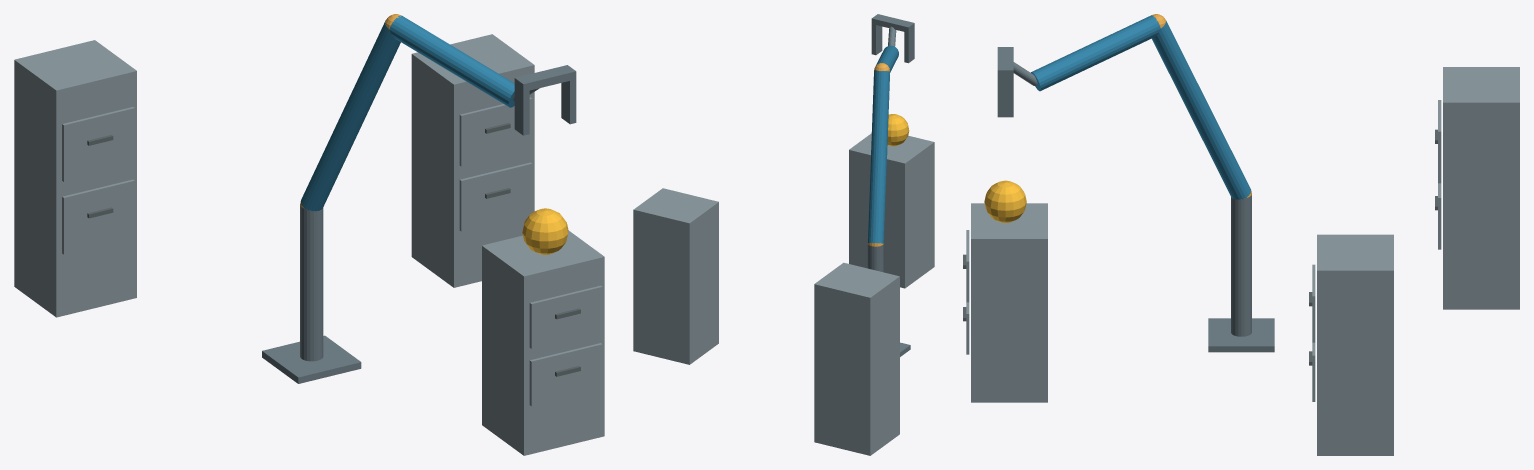
3 views of the same model, side by side, from view 1: azimuth 30°, elevation 25°; view 2: azimuth 150°, elevation 25°; view 3: azimuth 270°, elevation 25° (orthographic). The views are drawn at different scales.
Visible parts, largest first — view 1: cabinet_3 body, cabinet_1 body, cabinet_2 body, moving link 1, cabinet_3 drawer front, cabinet_3 drawer front.001, cabinet_2 drawer front, fixed post, moving link 2, cabinet_1 drawer front.001, cabinet_1 drawer front, cabinet_2 drawer front.001 (+5 smaller); view 2: cabinet_3 body, cabinet_2 body, cabinet_1 body, moving link 1, ball ball_1, gripper bridge, fixed post, gripper finger 1, gripper finger -1, moving link 2; view 3: cabinet_3 body, cabinet_2 body, cabinet_1 body, moving link 1, moving link 2, fixed post, pedestal, ball ball_1, gripper finger 1.
Part boxes in pixels (x1=…): cabinet_3 body: x1=14, y1=40, x2=136, y2=317; cabinet_1 body: x1=482, y1=230, x2=604, y2=455; cabinet_2 body: x1=411, y1=34, x2=534, y2=287; moving link 1: x1=300, y1=21, x2=400, y2=211; cabinet_3 drawer front: x1=62, y1=179, x2=134, y2=254; cabinet_3 drawer front.001: x1=62, y1=107, x2=134, y2=181; cabinet_2 drawer front: x1=459, y1=162, x2=532, y2=231; fixed post: x1=300, y1=204, x2=323, y2=361; moving link 2: x1=389, y1=15, x2=514, y2=107; cabinet_1 drawer front.001: x1=529, y1=285, x2=602, y2=348; cabinet_1 drawer front: x1=529, y1=343, x2=602, y2=406; cabinet_2 drawer front.001: x1=459, y1=97, x2=532, y2=166; cabinet_3 body: x1=814, y1=262, x2=899, y2=455; cabinet_2 body: x1=633, y1=188, x2=718, y2=364; cabinet_1 body: x1=849, y1=133, x2=934, y2=288; moving link 1: x1=867, y1=70, x2=890, y2=243; ball ball_1: x1=887, y1=114, x2=909, y2=146; gripper bridge: x1=871, y1=14, x2=914, y2=32; fixed post: x1=867, y1=243, x2=883, y2=272; gripper finger 1: x1=871, y1=24, x2=882, y2=55; gripper finger -1: x1=904, y1=29, x2=914, y2=63; moving link 2: x1=875, y1=45, x2=898, y2=72; cabinet_3 body: x1=1443, y1=67, x2=1519, y2=309; cabinet_2 body: x1=1317, y1=234, x2=1393, y2=455; cabinet_1 body: x1=971, y1=203, x2=1047, y2=402; moving link 1: x1=1152, y1=21, x2=1251, y2=199; moving link 2: x1=1031, y1=15, x2=1160, y2=91; fixed post: x1=1231, y1=195, x2=1251, y2=336; pedestal: x1=1208, y1=318, x2=1274, y2=352; ball ball_1: x1=984, y1=180, x2=1026, y2=222; gripper finger 1: x1=997, y1=77, x2=1013, y2=117.
Bounding box in the file's own units: 1.62 × 1.41 × 2.1.
